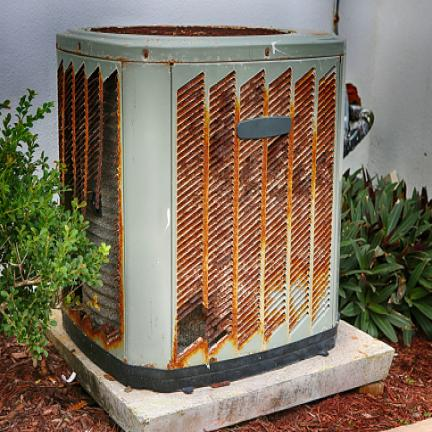karat: (237, 137, 290, 337), (174, 73, 207, 318), (57, 73, 118, 198), (209, 72, 235, 352), (289, 70, 314, 327), (312, 78, 335, 320), (242, 91, 291, 114)
